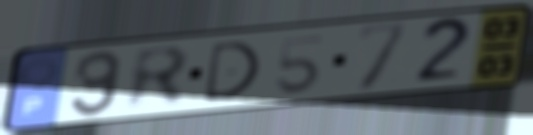2: (409, 15, 478, 90)
5: (270, 33, 329, 96)
7: (354, 19, 414, 96)
9: (69, 47, 125, 119)
D: (199, 38, 264, 106)
R: (123, 44, 194, 114)
